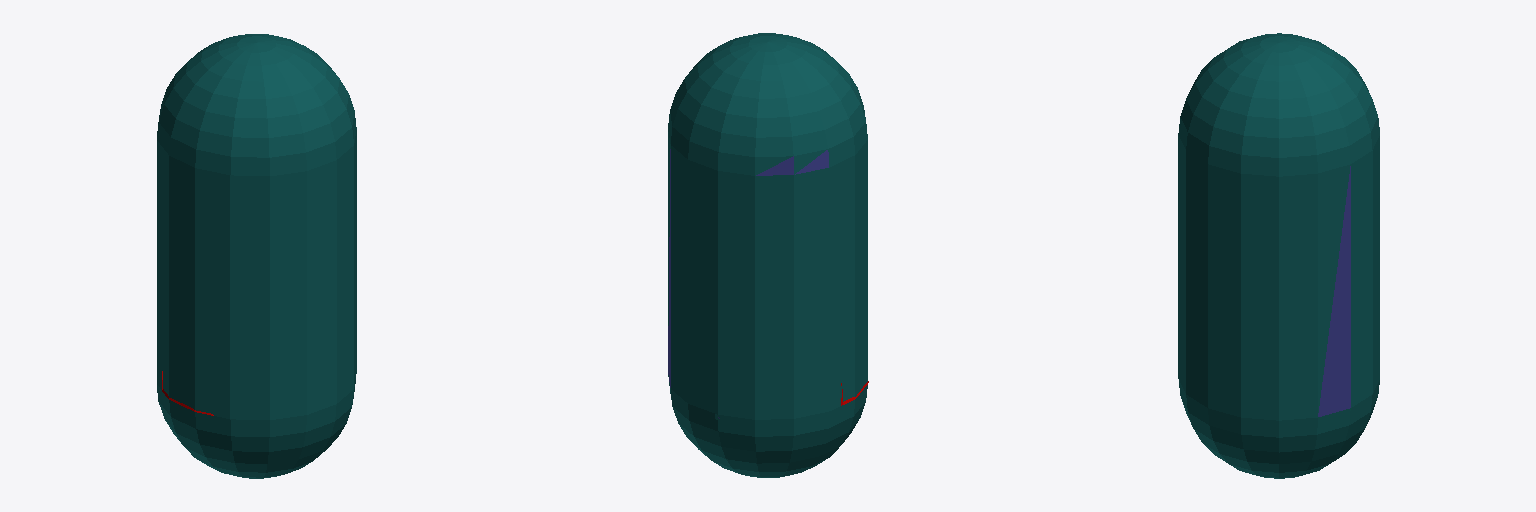
File: Blender249.obj
3 renders of one model, left to right at view 1: azimuth 30°, elevation 25°; view 2: azimuth 150°, elevation 25°; view 3: azimuth 270°, elevation 25°, orthographic.
Size of the model in its own units: 3.01 by 7 by 3.02.